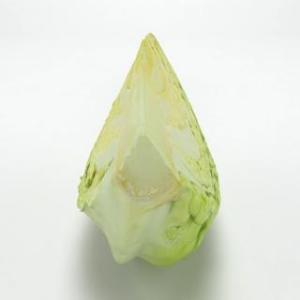cabbage: (76, 31, 224, 270)
